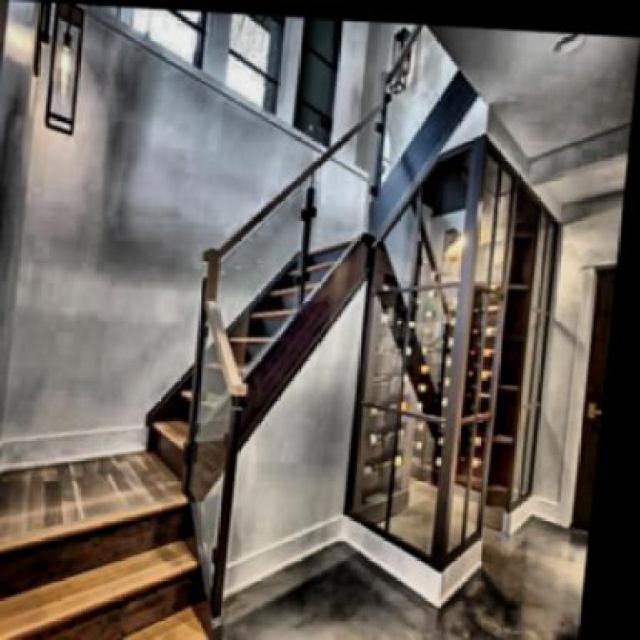stair: (110, 215, 368, 476), (0, 478, 242, 638)
